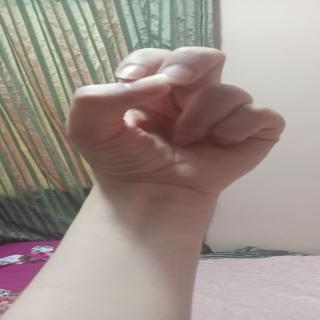QAAF: (59, 32, 320, 194)
